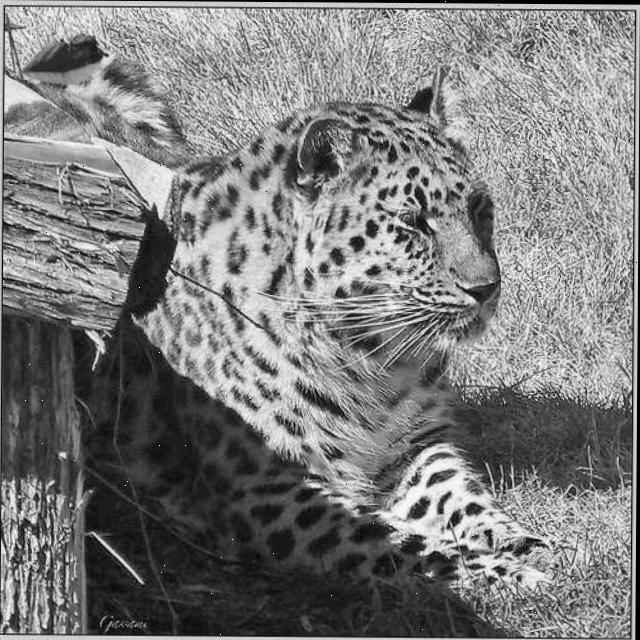Leopard: (18, 41, 591, 604)
